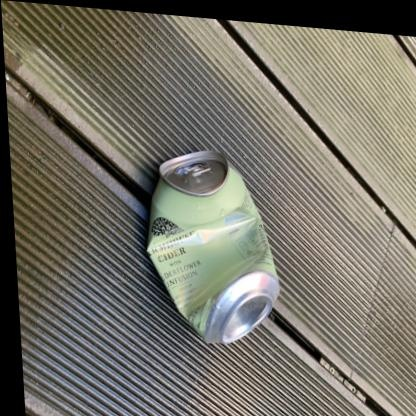trash: (147, 151, 279, 342)
